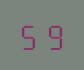five: (19, 20, 41, 50)
nine: (42, 20, 64, 50)
